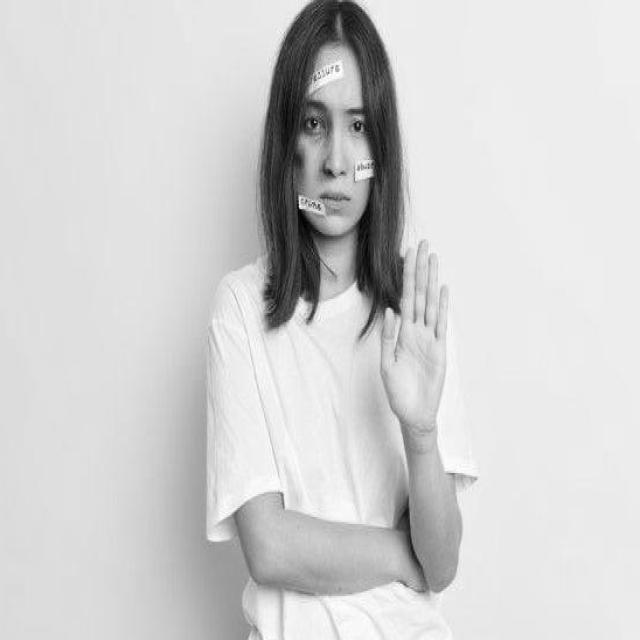stop: (377, 233, 453, 438)
